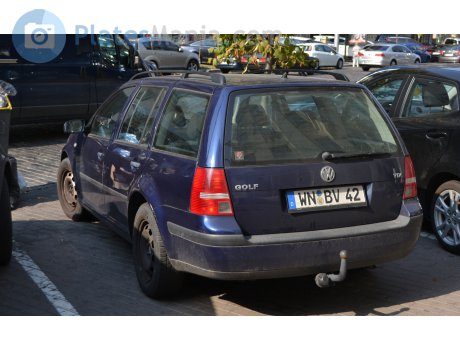License Plates: (292, 183, 363, 200)
